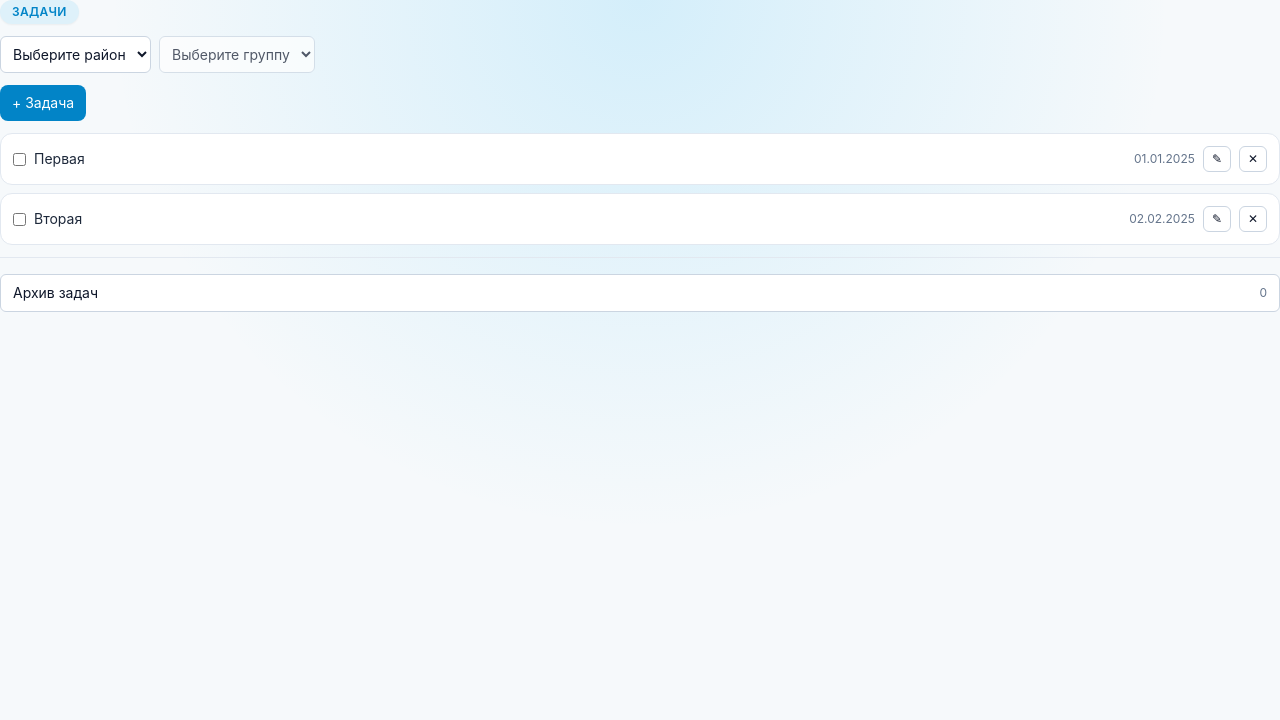
Test: TasksTab CRUD operations › Update: editing task saves changes
This screenshot has width=1280, height=720.
Click the 1st button "✎" at (1217, 159), box [1203,146,1231,172]
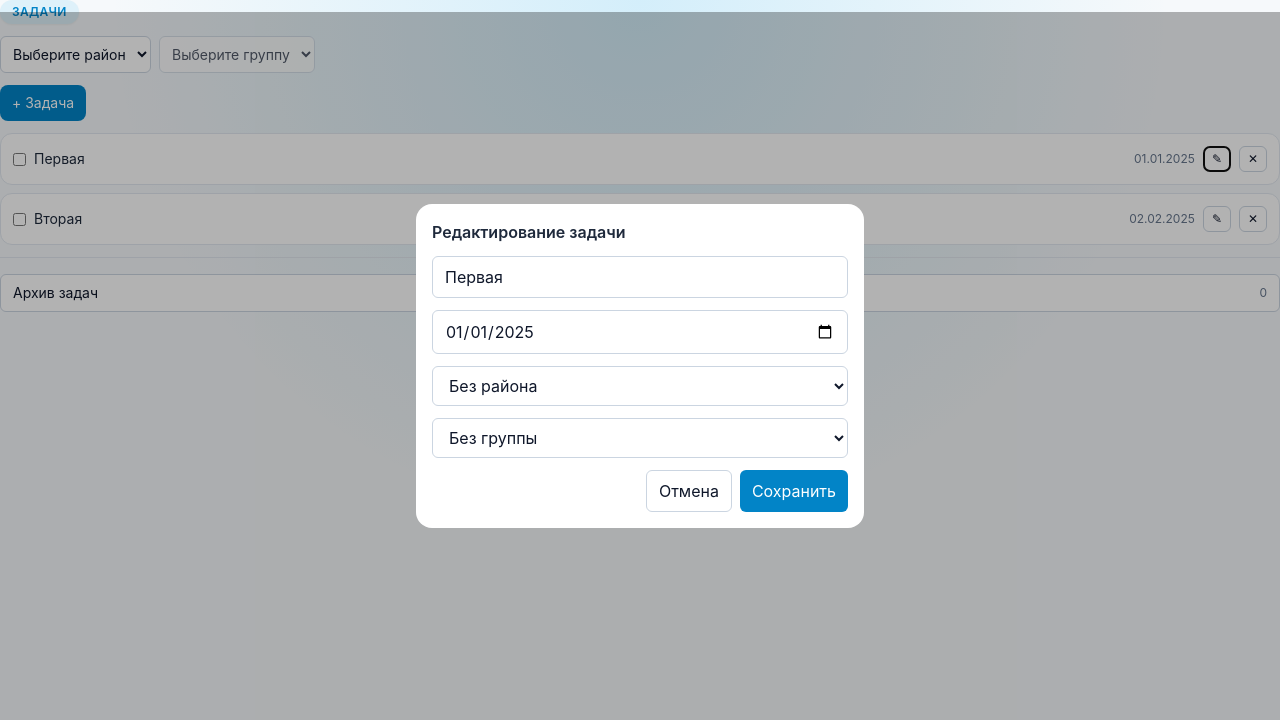
Replace the text in the field showing "Первая" with "Обновленная" at (640, 277), box [432,256,848,298]
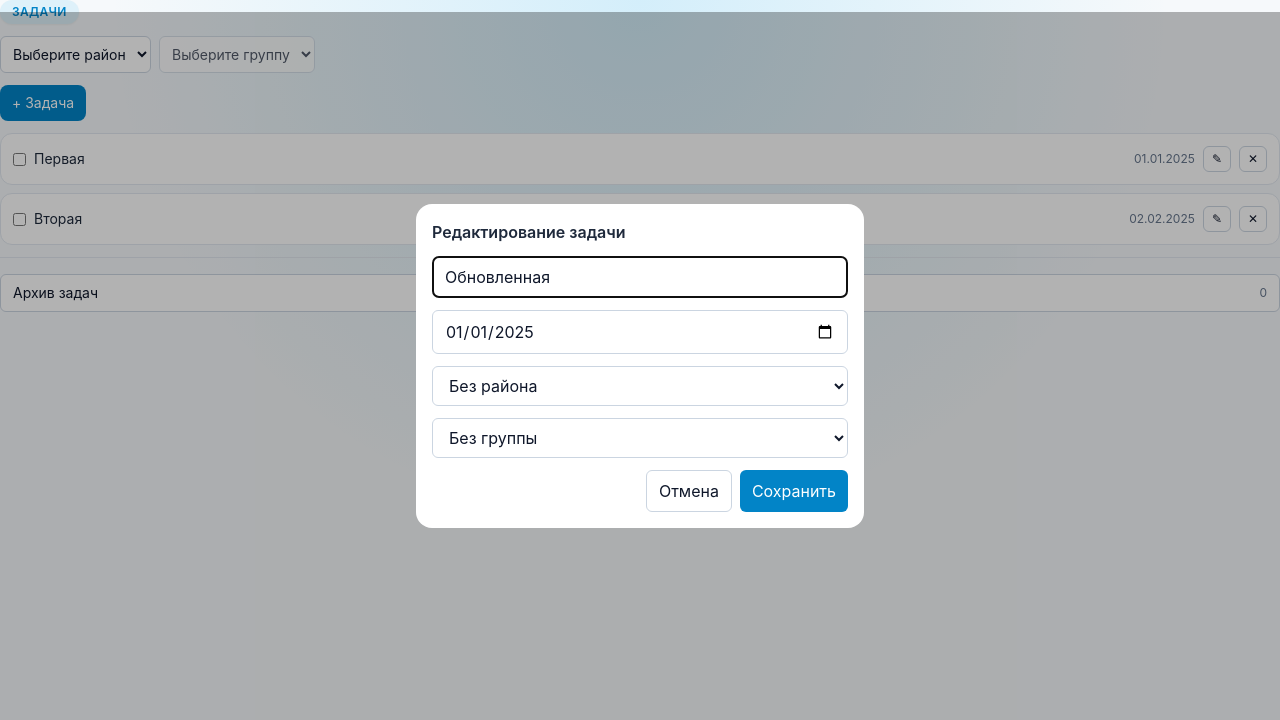
Type "2025-01-02" into the date field showing "2025-01-01" at (640, 332), box [432,310,848,354]
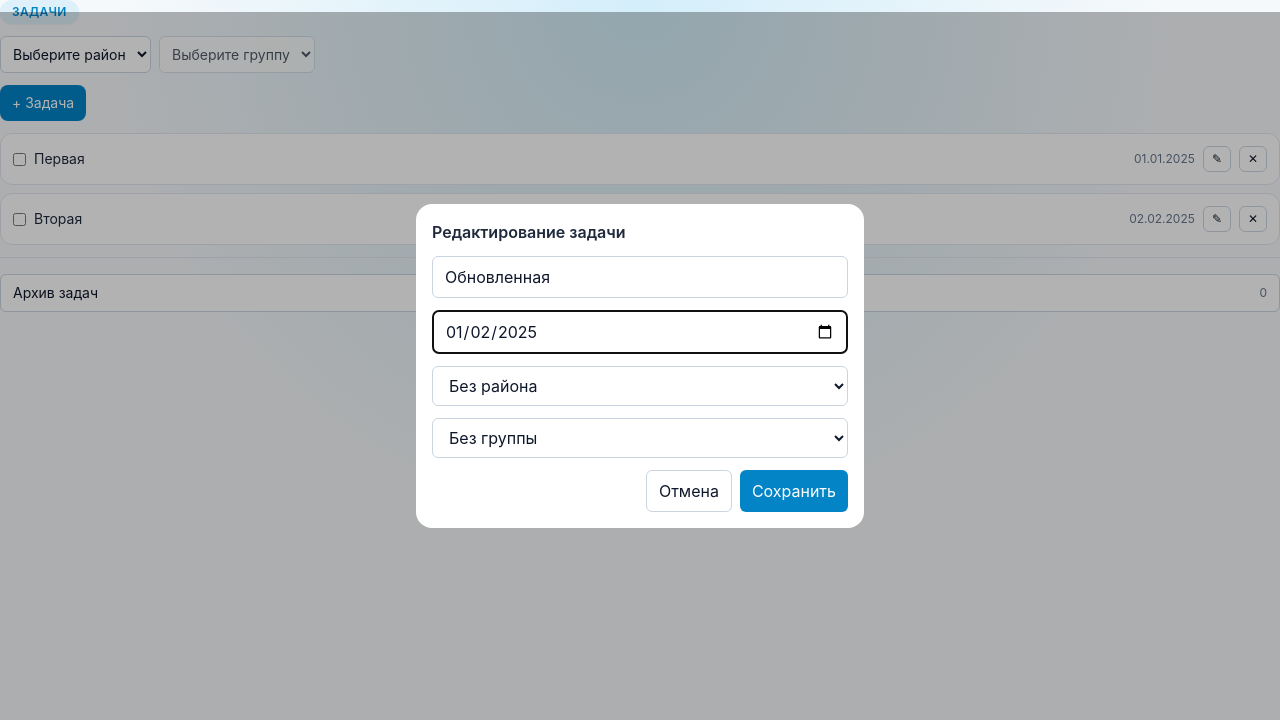
Click the button "Сохранить" at (794, 491), box [740,470,848,512]
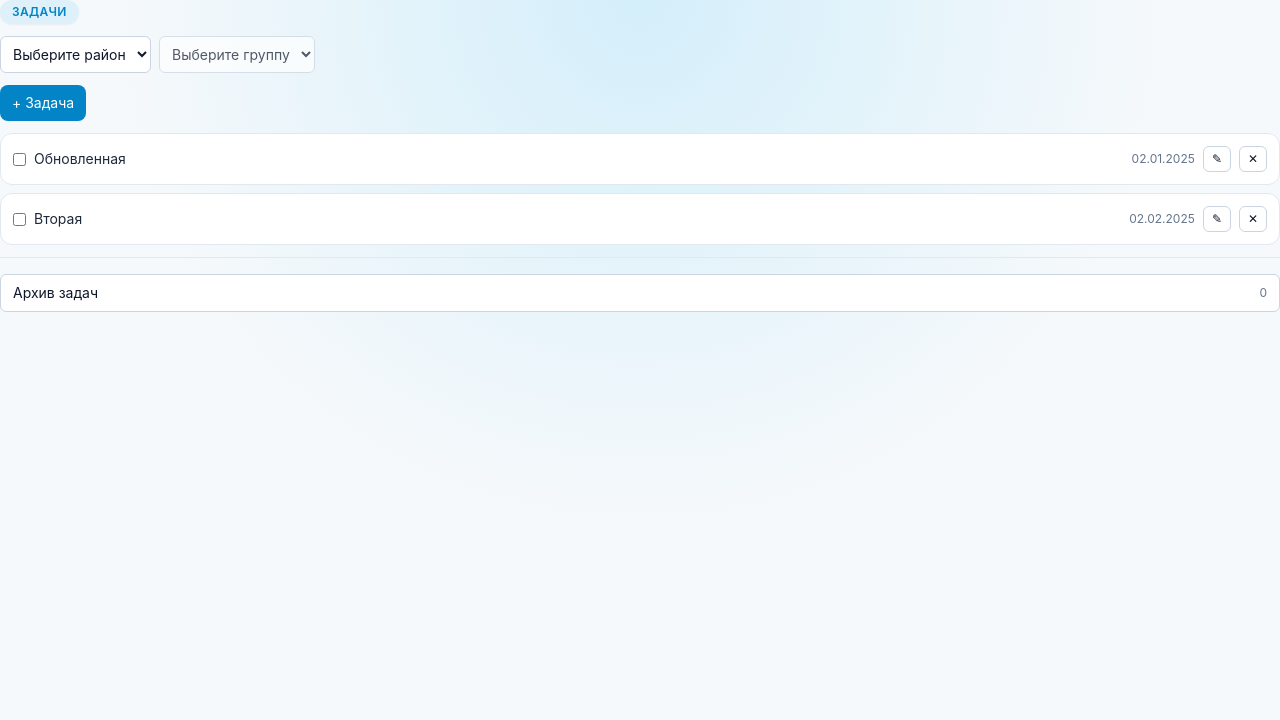
Expected: the text "Обновленная" is shown, [34,149,126,169]
Expected: the text "02.01.2025" is shown, [1132,151,1195,167]
